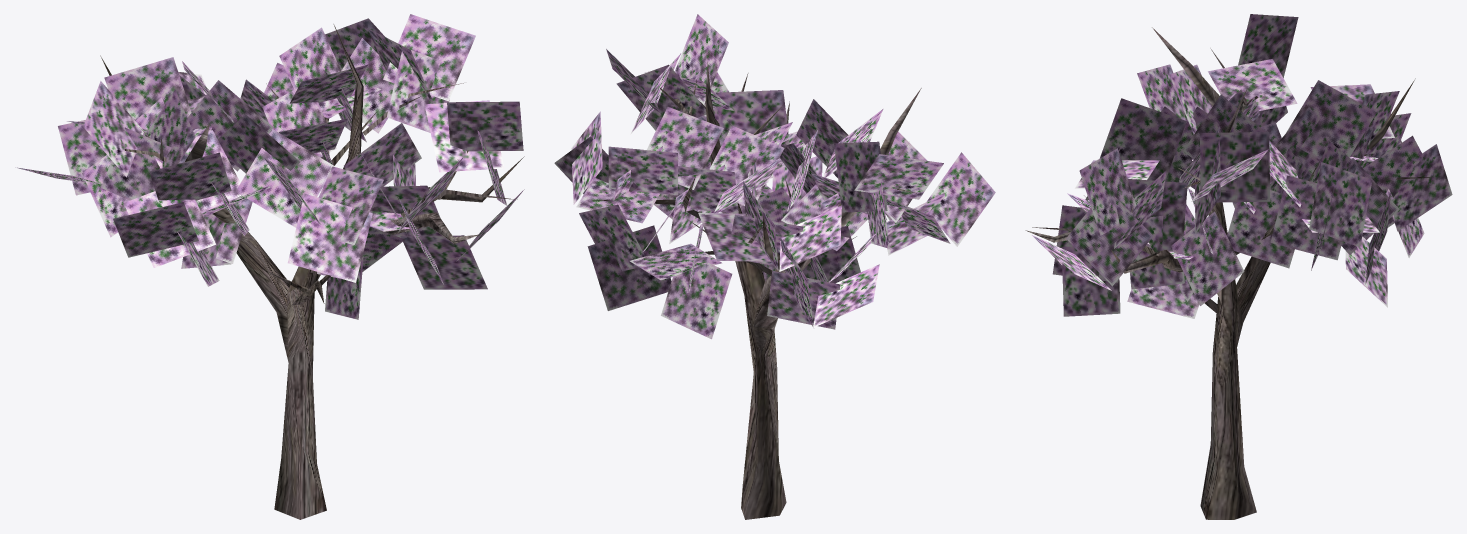
The model's file is Tree12.obj.
3 renders of one model, left to right at view 1: azimuth 30°, elevation 25°; view 2: azimuth 150°, elevation 25°; view 3: azimuth 270°, elevation 25°, orthographic. The views are drawn at different scales.
Visible parts, largest first — view 1: Mesh_1, Mesh_0; view 2: Mesh_1, Mesh_0; view 3: Mesh_1, Mesh_0.
Boxes of the visible parts, x1,y1,x2,y2 form: Mesh_1: (15,14,524,319); Mesh_0: (91,24,524,519); Mesh_1: (554,14,995,339); Mesh_0: (592,62,921,519); Mesh_1: (1032,14,1452,318); Mesh_0: (1025,27,1431,519).
Size of the model in its own units: 4.24 by 4.9 by 4.26.
2 materials, 2 textured.
